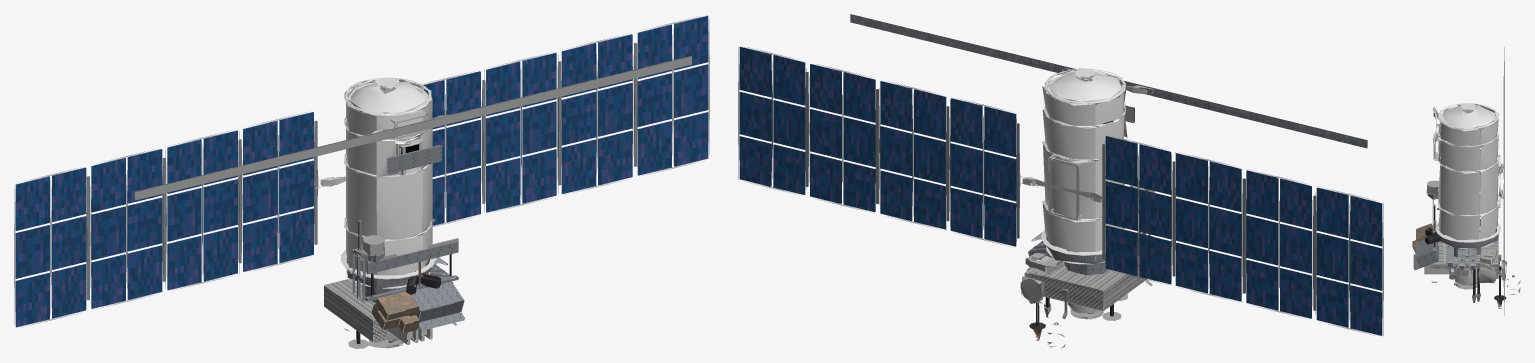
File: sputnik.glb
3 renders of one model, left to right at view 1: azimuth 30°, elevation 25°; view 2: azimuth 150°, elevation 25°; view 3: azimuth 270°, elevation 25°, orthographic. The views are drawn at different scales.
Visible parts, largest first — view 1: Meteor-M2; view 2: Meteor-M2; view 3: Meteor-M2.
Boxes of the visible parts, <box> form: Meteor-M2: <box>14,15,709,348</box>; Meteor-M2: <box>738,14,1383,348</box>; Meteor-M2: <box>1412,47,1520,315</box>.
Bounding box in the file's own units: 18.63 × 7.14 × 3.64.
1 material, 1 textured.
